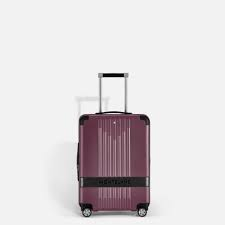suitcase: (75, 72, 153, 218)
